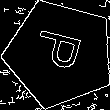P_E: (30, 30, 90, 78)
